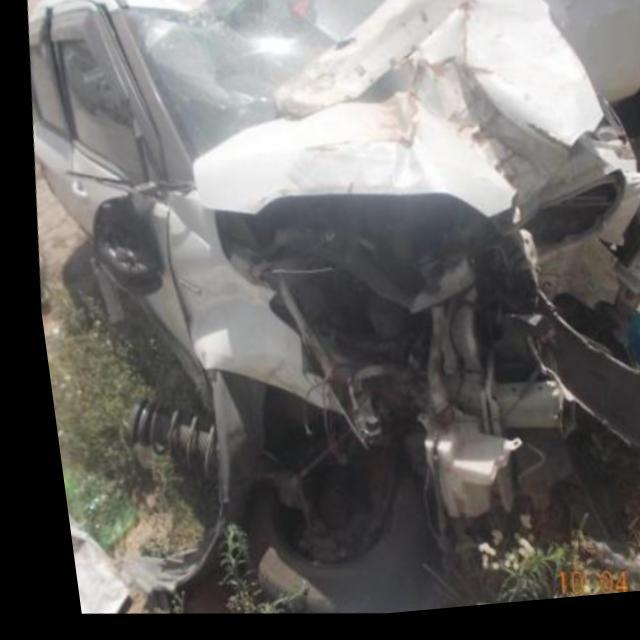glass shatter: (116, 0, 315, 111)
no part: (169, 0, 640, 491)
